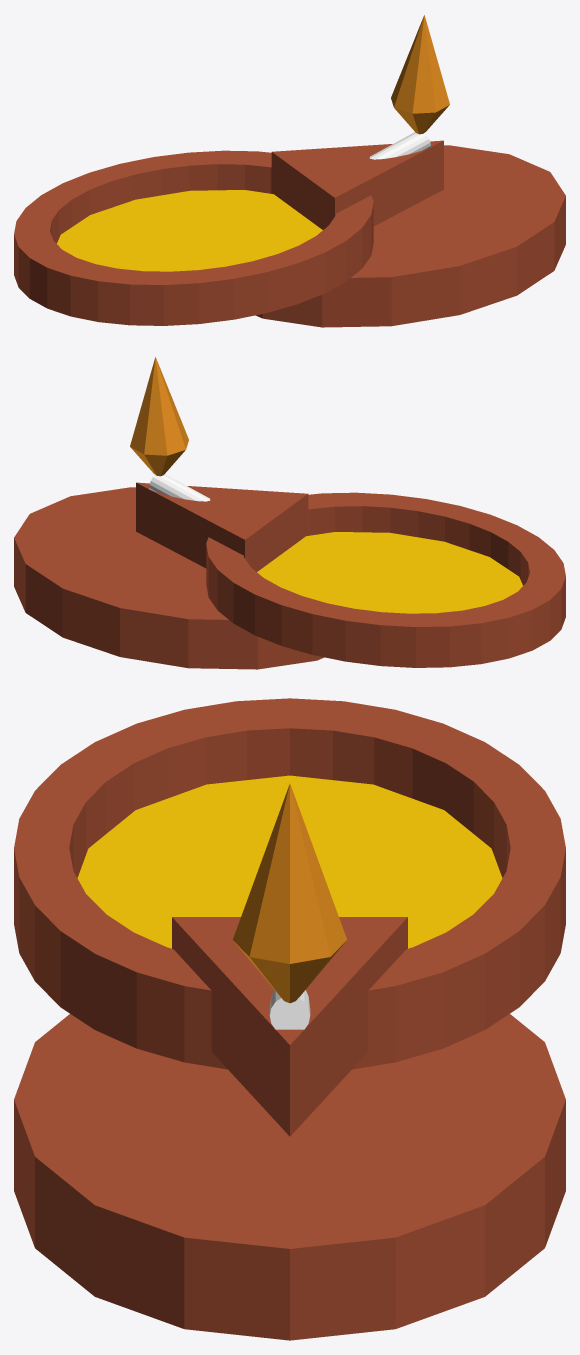
The model's file is source-edit.glb.
The picture shows the model from 3 angles, top to bottom: view 1: azimuth 30°, elevation 25°; view 2: azimuth 150°, elevation 25°; view 3: azimuth 270°, elevation 25°; orthographic projection. The views are drawn at different scales.
Visible parts, largest first — view 1: Earthen_Rim, Bowl_Floor, Oil_Surface, Spout, Flame, Cotton_Wick; view 2: Earthen_Rim, Bowl_Floor, Oil_Surface, Spout, Flame, Cotton_Wick; view 3: Bowl_Floor, Earthen_Rim, Oil_Surface, Spout, Flame, Cotton_Wick.
Part boxes in pixels (bbox=[...]): Earthen_Rim: bbox=[14, 150, 373, 325]; Bowl_Floor: bbox=[255, 145, 565, 327]; Oil_Surface: bbox=[57, 190, 322, 271]; Spout: bbox=[271, 140, 443, 229]; Flame: bbox=[391, 15, 449, 134]; Cotton_Wick: bbox=[369, 132, 430, 159]; Earthen_Rim: bbox=[206, 492, 565, 667]; Bowl_Floor: bbox=[14, 487, 324, 669]; Oil_Surface: bbox=[257, 532, 522, 613]; Spout: bbox=[136, 482, 308, 571]; Flame: bbox=[130, 357, 188, 476]; Cotton_Wick: bbox=[149, 474, 210, 501]; Bowl_Floor: bbox=[14, 1014, 565, 1340]; Earthen_Rim: bbox=[14, 698, 565, 1069]; Oil_Surface: bbox=[77, 775, 502, 948]; Spout: bbox=[172, 917, 407, 1136]; Flame: bbox=[233, 784, 346, 1003]; Cotton_Wick: bbox=[269, 990, 310, 1029].
Bounding box in the file's own units: 0.333 × 0.145 × 0.1638.
